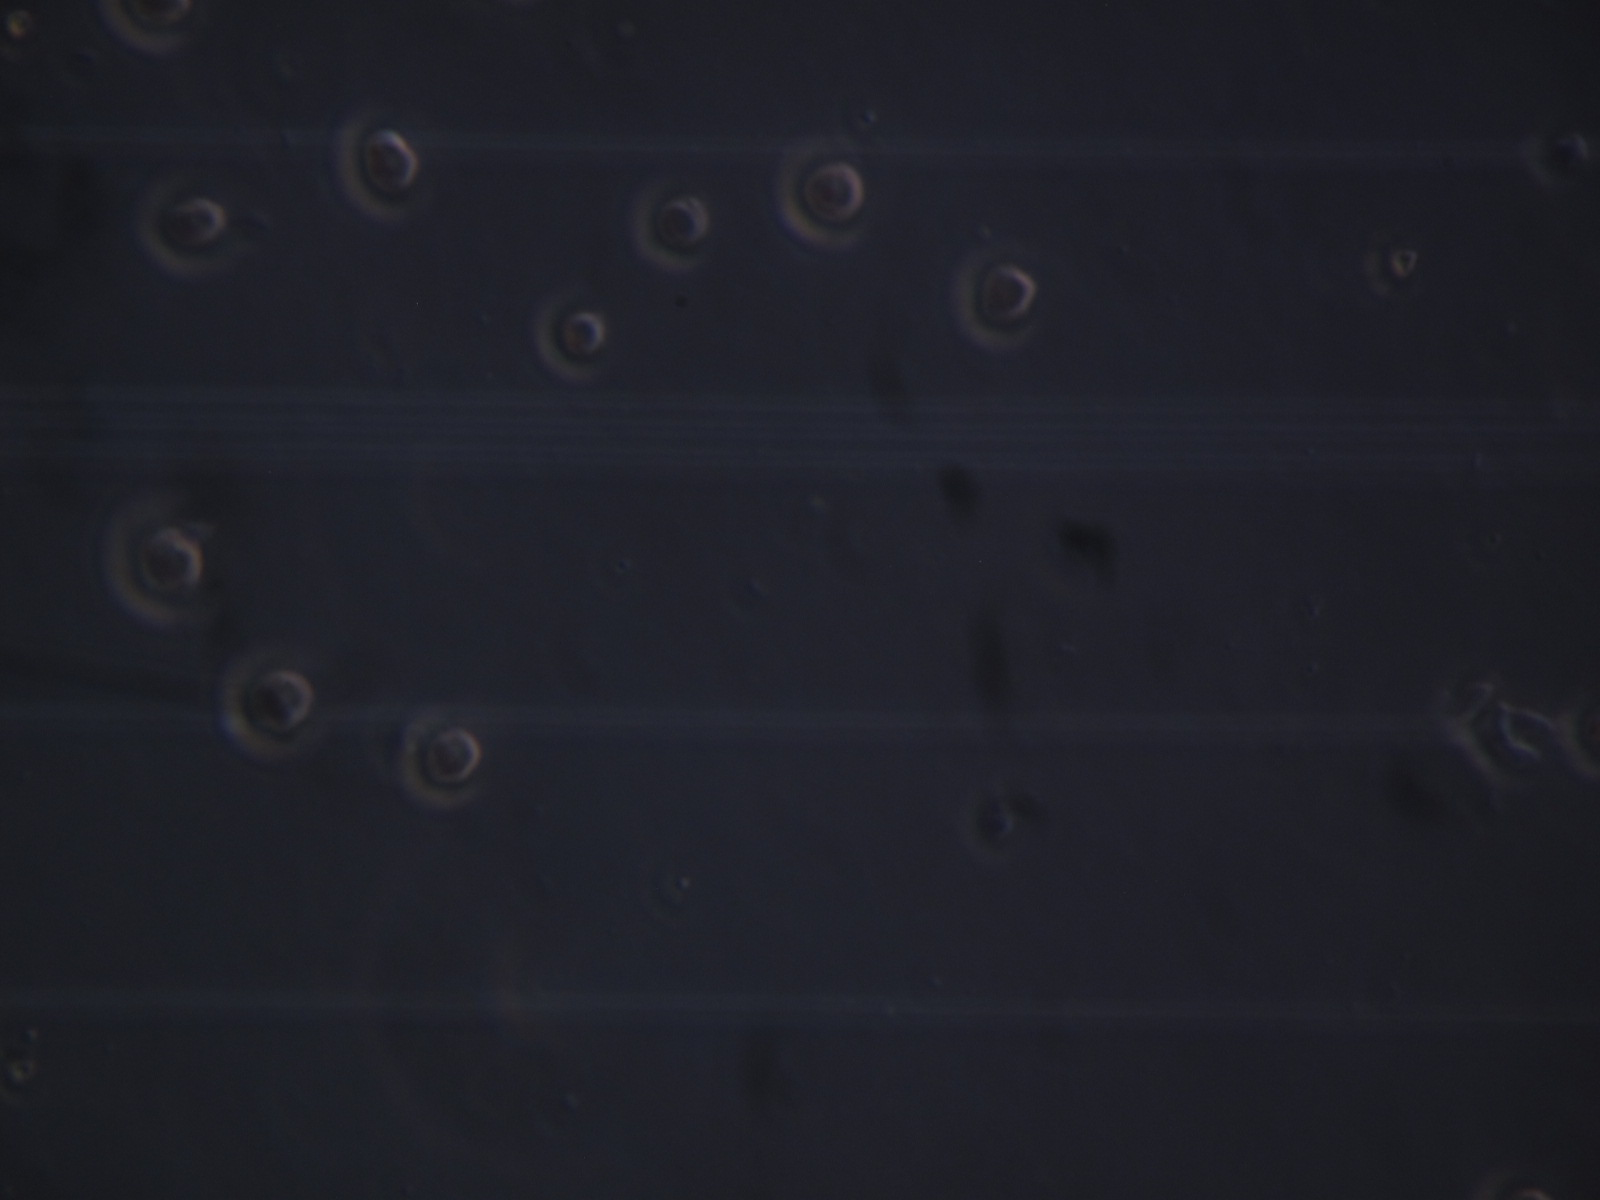hemo: (100, 495, 205, 629), (222, 639, 319, 763), (775, 139, 871, 255), (139, 174, 241, 277), (331, 113, 420, 224), (957, 236, 1041, 350), (401, 713, 481, 817), (629, 170, 709, 272), (527, 287, 606, 386), (120, 1, 202, 59)
